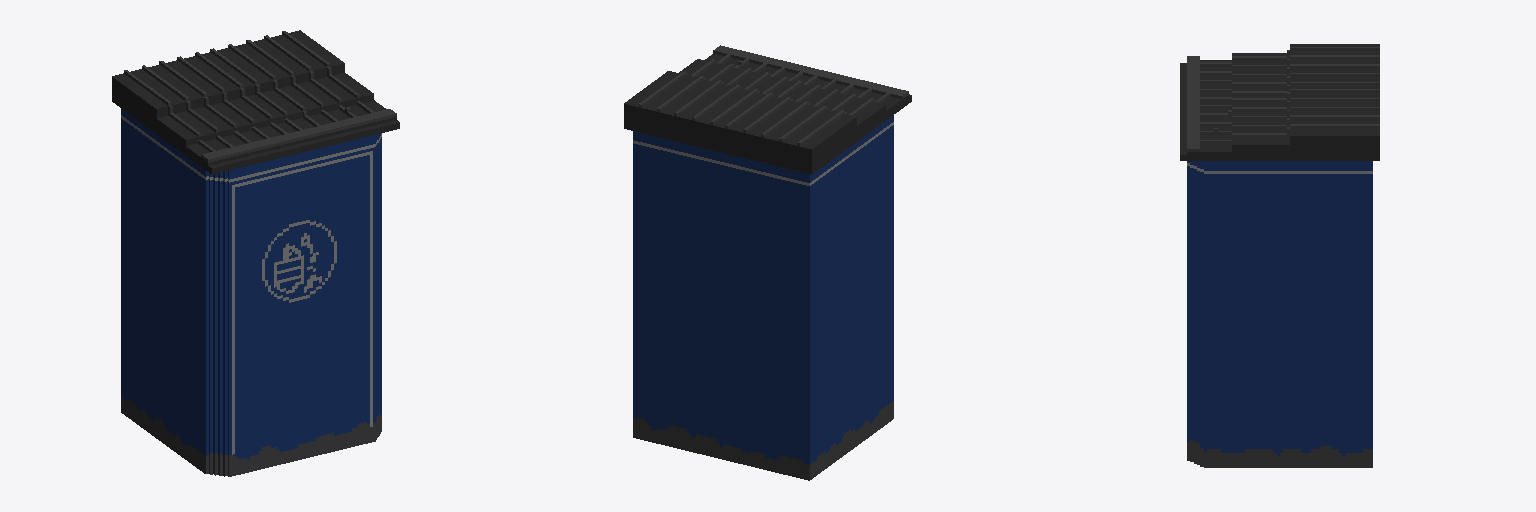
3 views of the same model, side by side, from view 1: azimuth 30°, elevation 25°; view 2: azimuth 150°, elevation 25°; view 3: azimuth 270°, elevation 25° (orthographic).
Parts seen in each view (by area): view 1: object 1; view 2: object 1; view 3: object 1.
Boxes of the visible parts, x1,y1,x2,y2 form: object 1: [112, 30, 399, 476]; object 1: [624, 45, 911, 480]; object 1: [1180, 44, 1379, 467].
Bounding box in the file's own units: 6.3 × 10.8 × 5.8.
1 materials, 1 textured.